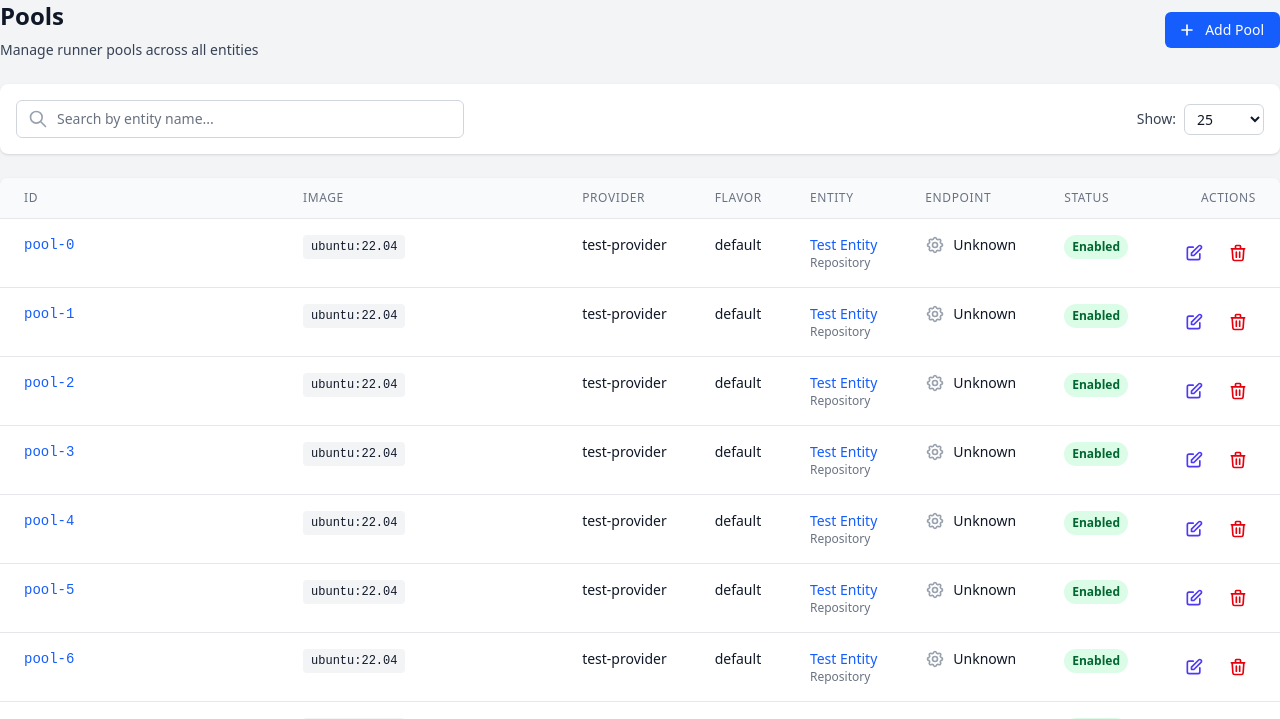
Test: Comprehensive Integration Tests for Pools Page › Modal Integration › should integrate modal workflows with main page state
# Should integrate create modal workflow
What coordinates should you click on to do the following:
click the button "Add Pool"
I would click on:
 (1223, 30)
Its box is [1165,12,1279,48].
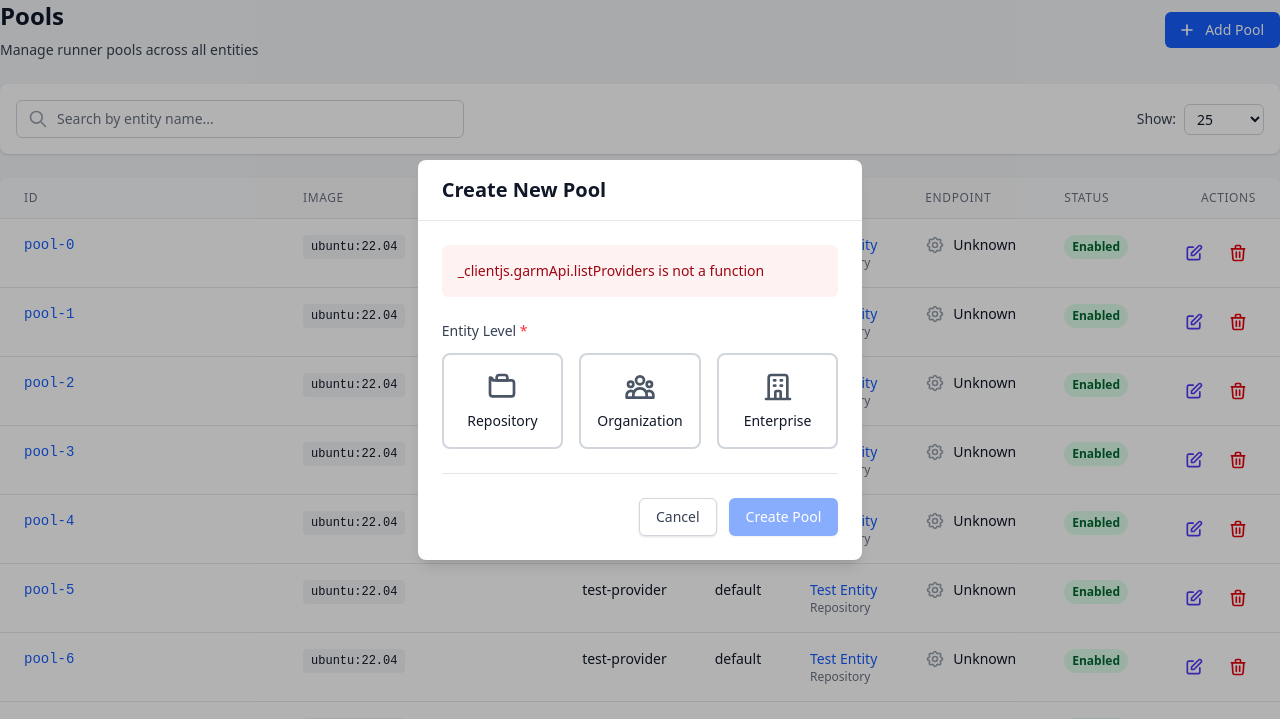
Expected: the heading "Pools" is shown, [0,0,64,32]
Expected: the button "Create Pool" is shown, [729,498,838,536]
